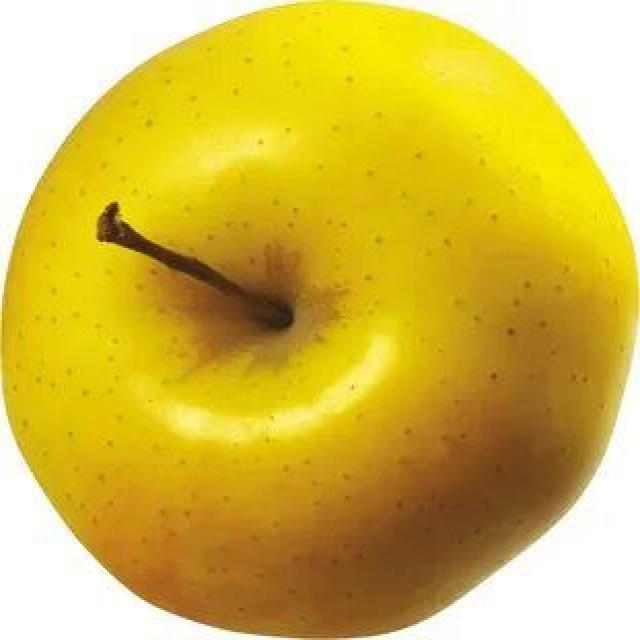Fresh Apple: (55, 17, 635, 618)
